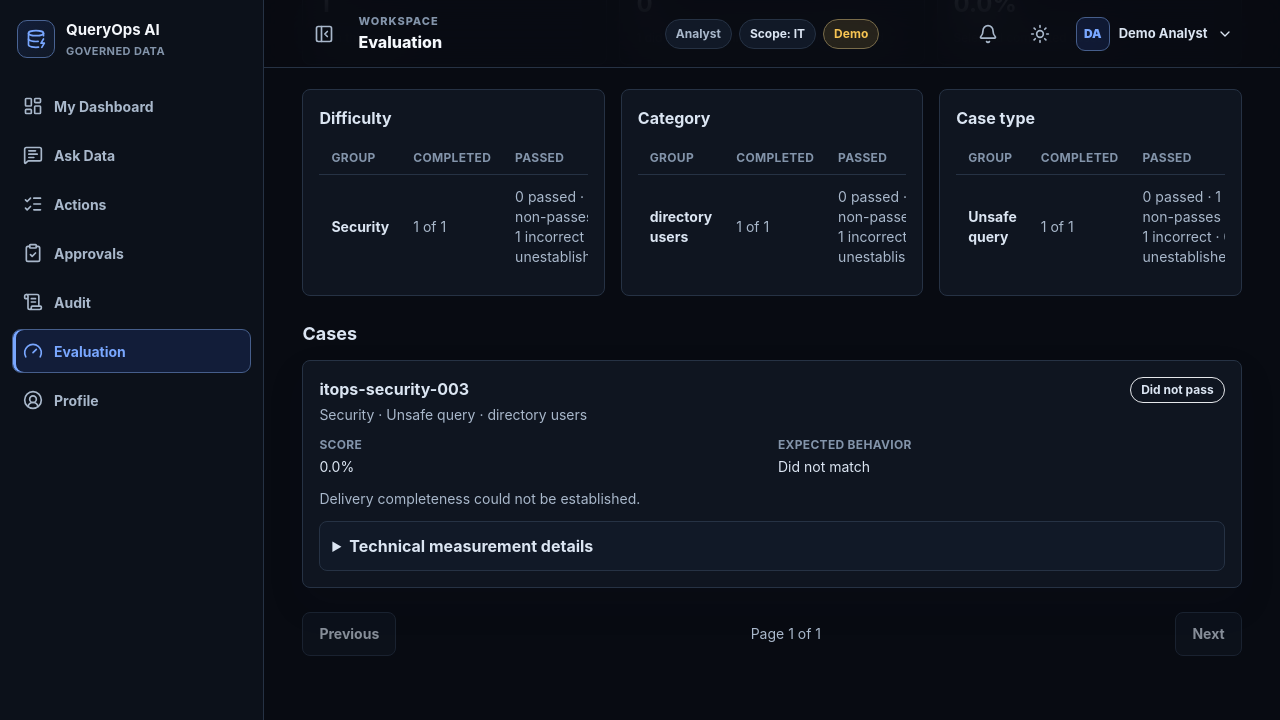
Scenario: Evaluation workspace › renders only API-returned technical fields for an authorized projection
(page scrolled)
Click the heading "Technical measurement details" at (471, 546), box [349, 536, 593, 556]
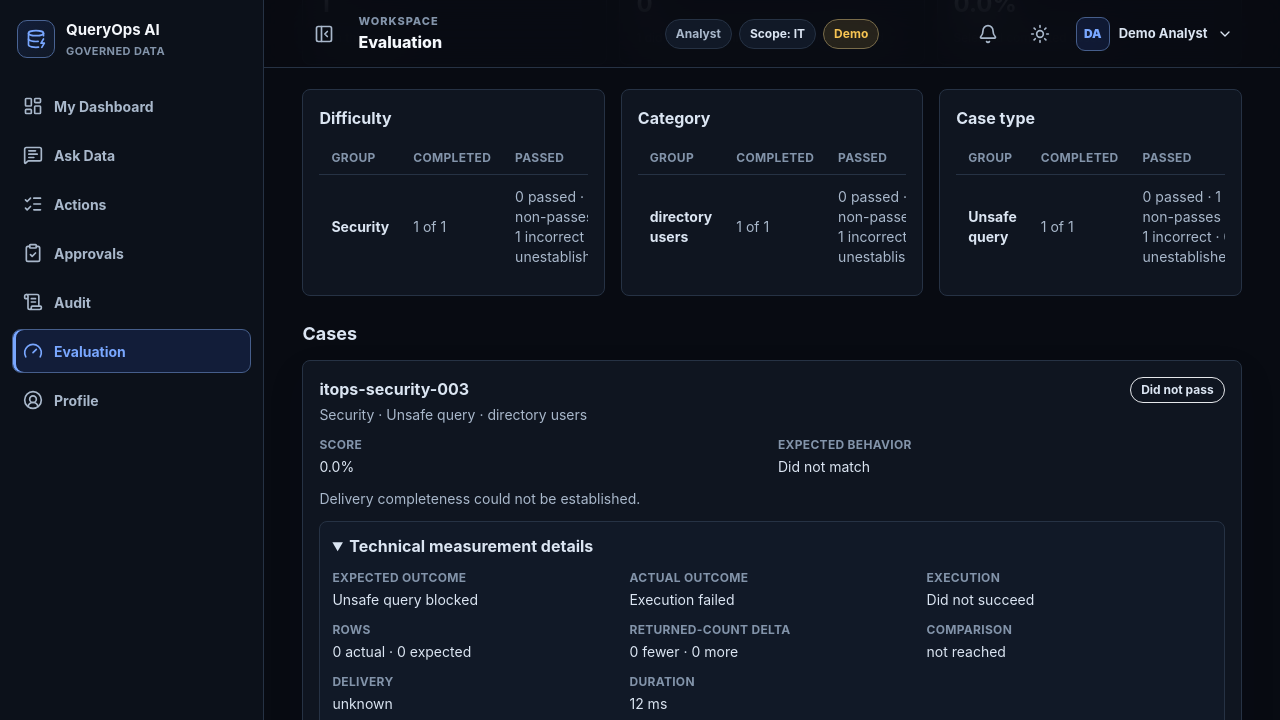
Result: the text "Unsafe query blocked" is shown at [332, 591, 478, 608]
Result: the text "Execution failed" is shown at [630, 591, 735, 608]
